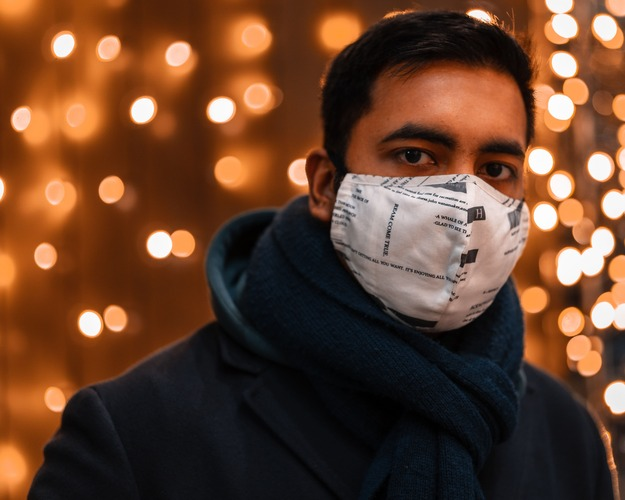with_mask: (348, 82, 519, 293)
